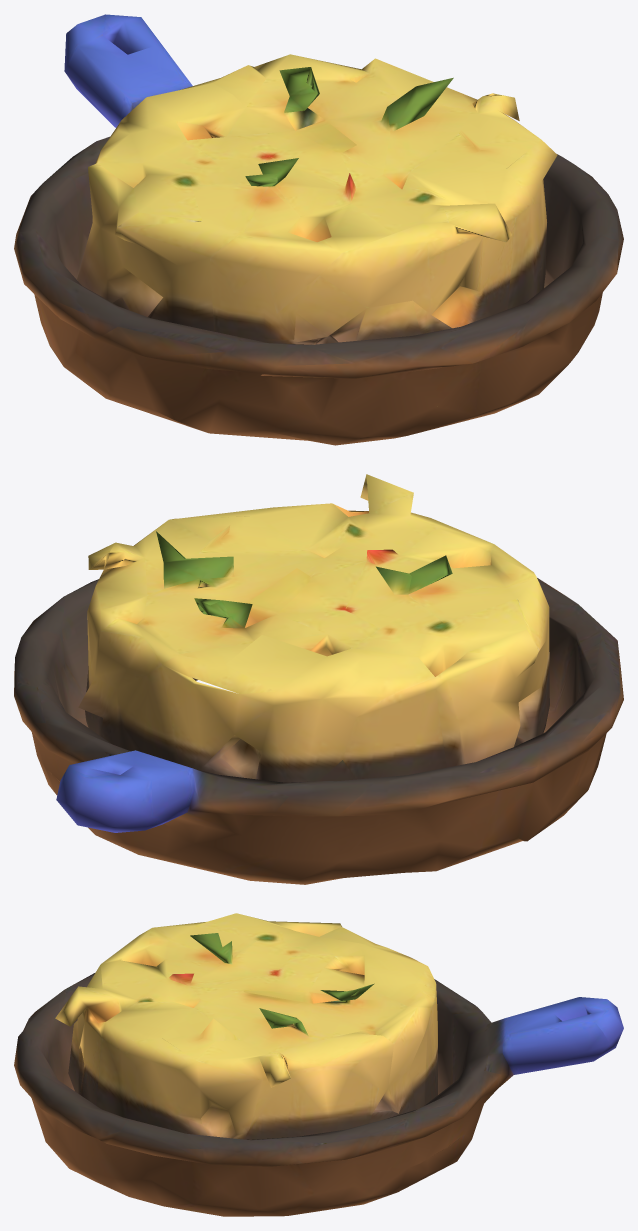
Rendered from meat_provoleta.glb.
3 views of the same model, one above another, from view 1: azimuth 30°, elevation 25°; view 2: azimuth 150°, elevation 25°; view 3: azimuth 270°, elevation 25° (orthographic). The views are drawn at different scales.
Parts seen in each view (by area): view 1: tripo_node_28871d8c-7634-4494-88fe-759073baabfa; view 2: tripo_node_28871d8c-7634-4494-88fe-759073baabfa; view 3: tripo_node_28871d8c-7634-4494-88fe-759073baabfa.
Boxes of the visible parts, x1=… form: tripo_node_28871d8c-7634-4494-88fe-759073baabfa: x1=14, y1=14, x2=623, y2=445; tripo_node_28871d8c-7634-4494-88fe-759073baabfa: x1=14, y1=474, x2=623, y2=884; tripo_node_28871d8c-7634-4494-88fe-759073baabfa: x1=14, y1=913, x2=623, y2=1216.
Size of the model in its own units: 0.7967 by 0.3061 by 1.
Materials: 1 (1 with a texture image).
